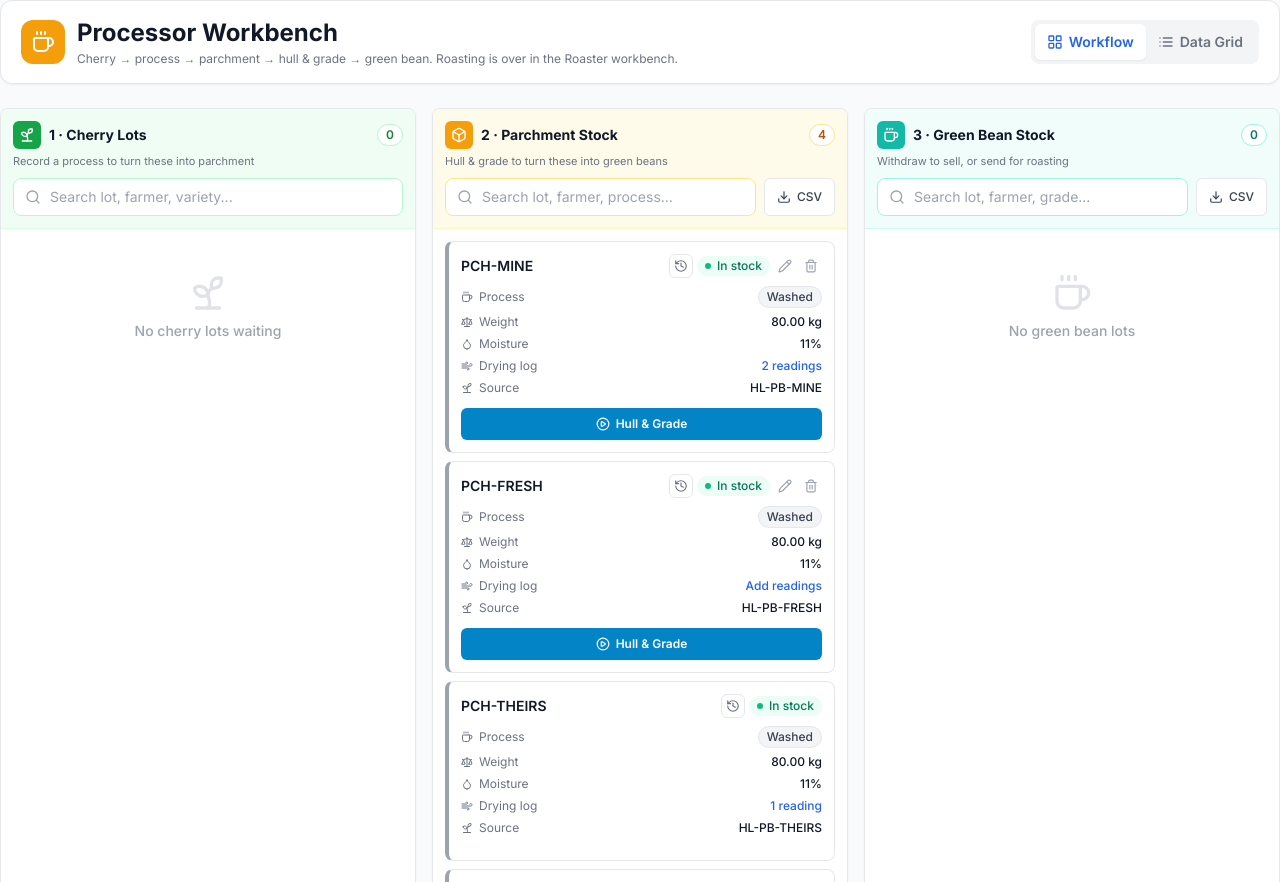
Test: Workbench drying log › edits a reading, sending only what changed
Click the button "2 readings" at (792, 366), box 762,358 -> 822,374
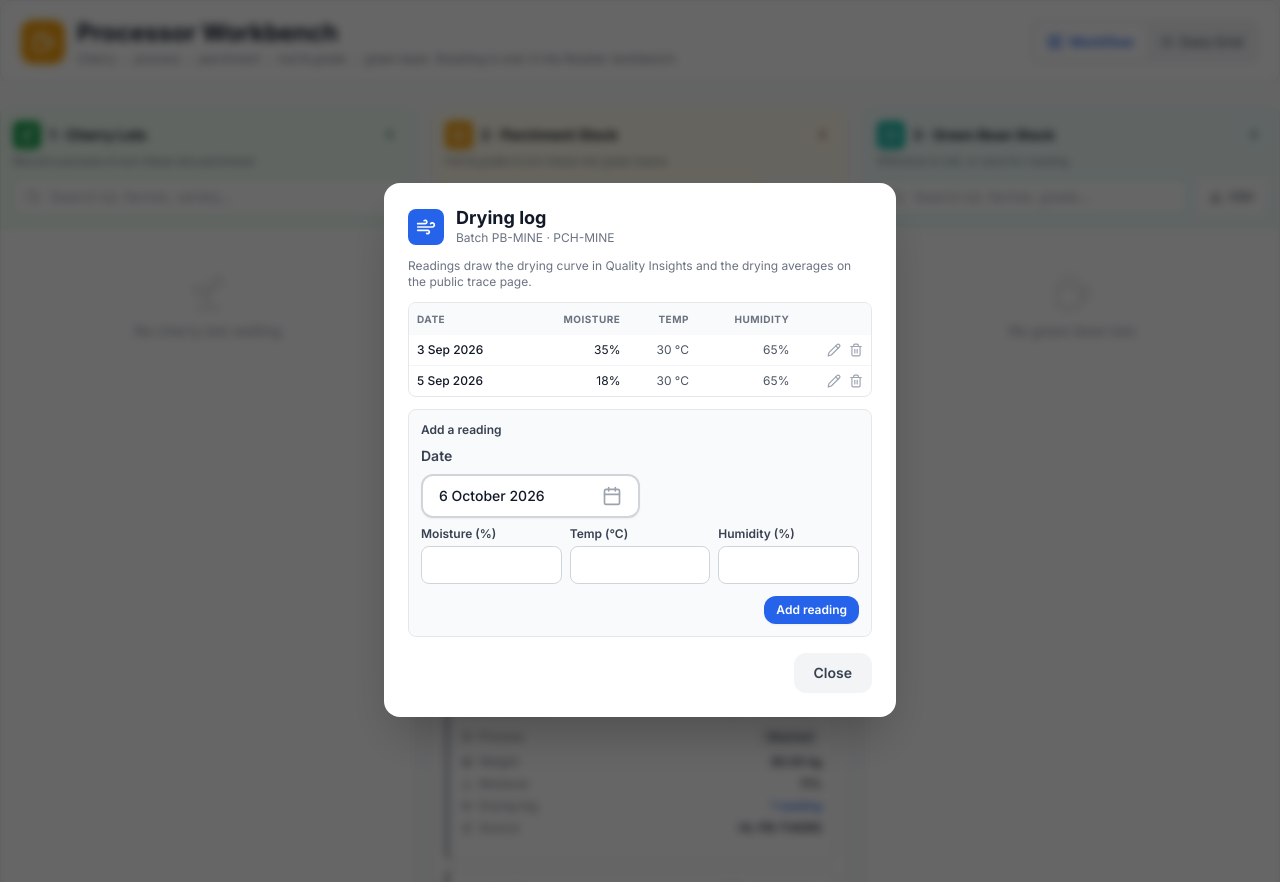
Click the button named "Edit the reading of 3 Sep 2026" at (834, 350), box 823,339 -> 845,361
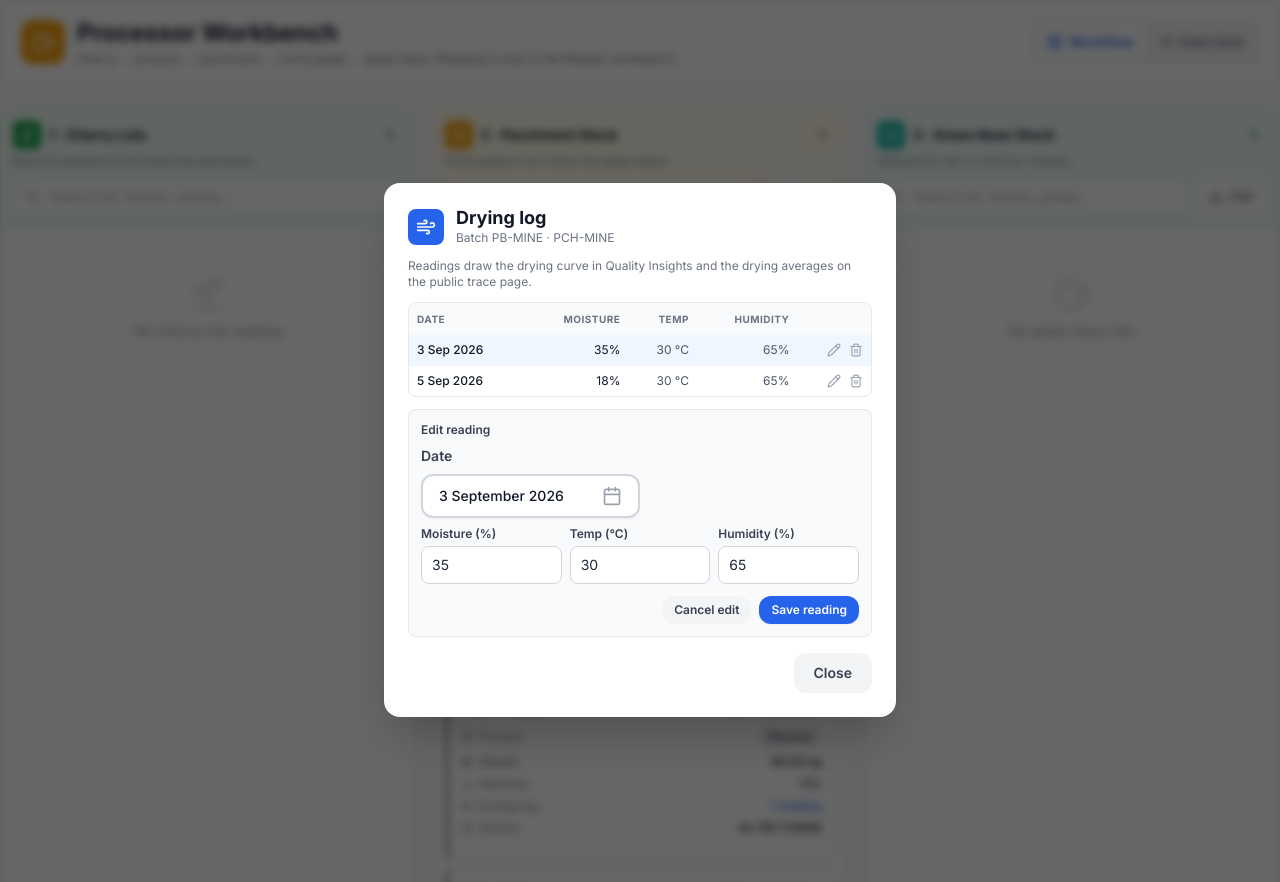
Result: the number field labelled "Moisture (%)" holds "35"
Replace the text in the number field labelled "Moisture (%)" with "33.5" at (491, 565), box 421,546 -> 562,584
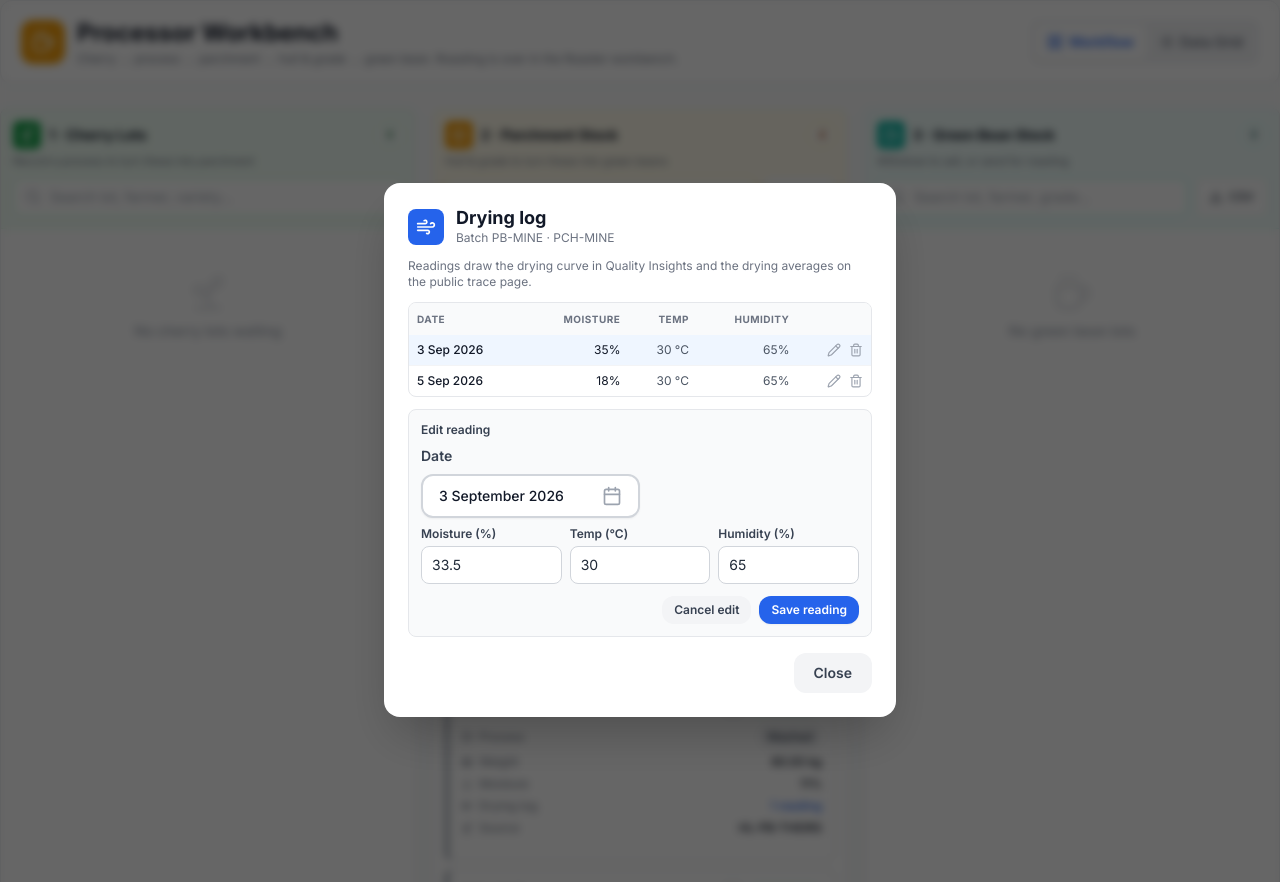
Click the button "Save reading" at (809, 610), box 760,596 -> 859,624
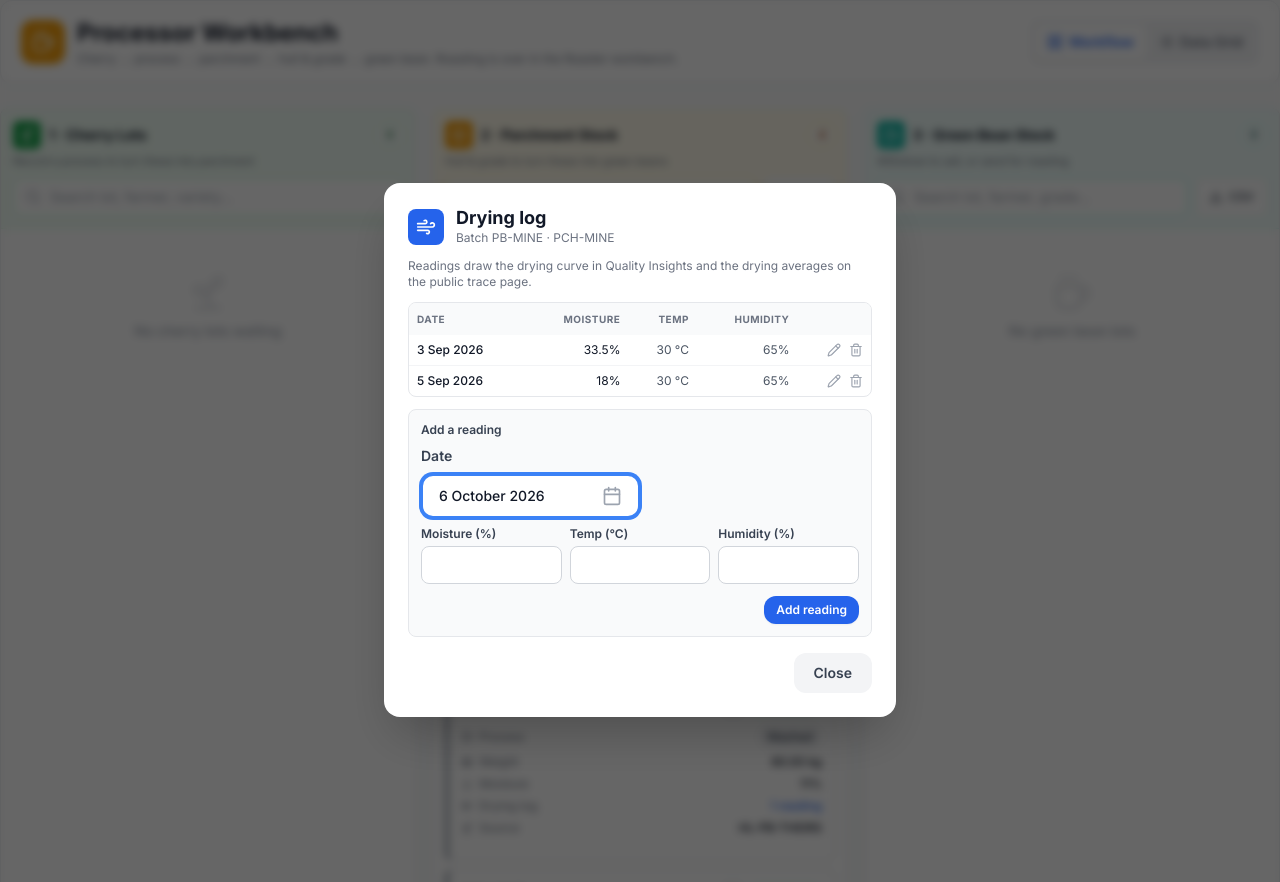
Result: the row "3 Sep 2026 33.5% 30 °C 65%" is shown at 409,335 -> 871,365
Result: the button "Add reading" is shown at 764,596 -> 859,624
